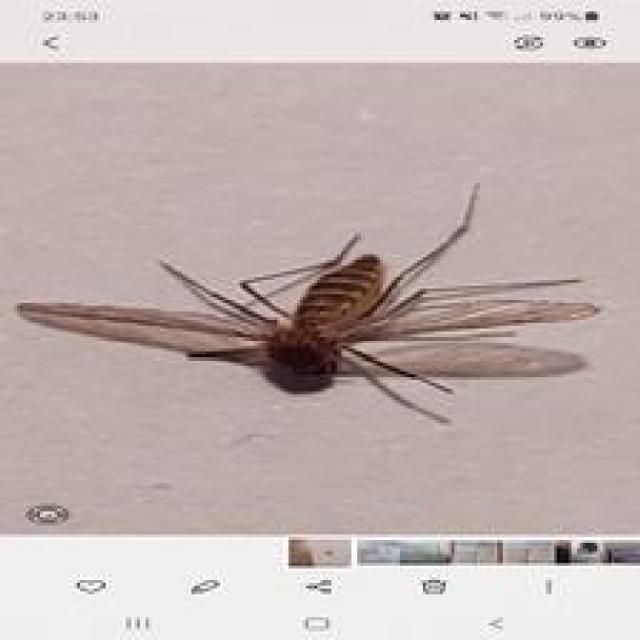Culex: (16, 180, 601, 426)
